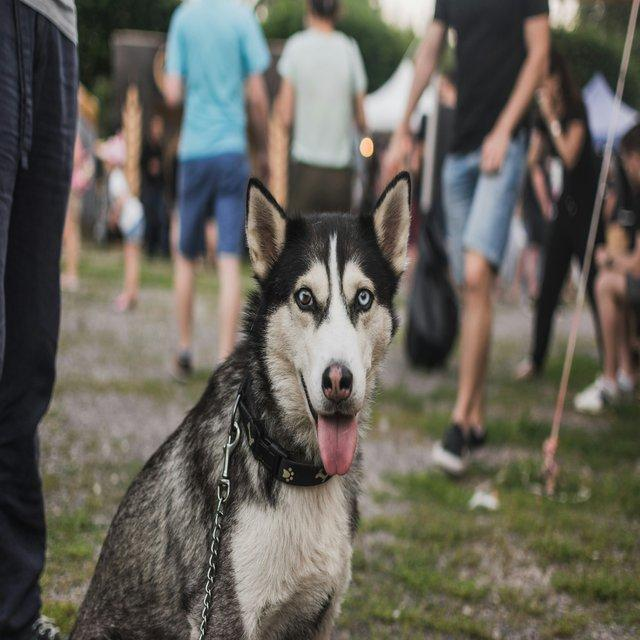husky: (66, 168, 412, 638)
